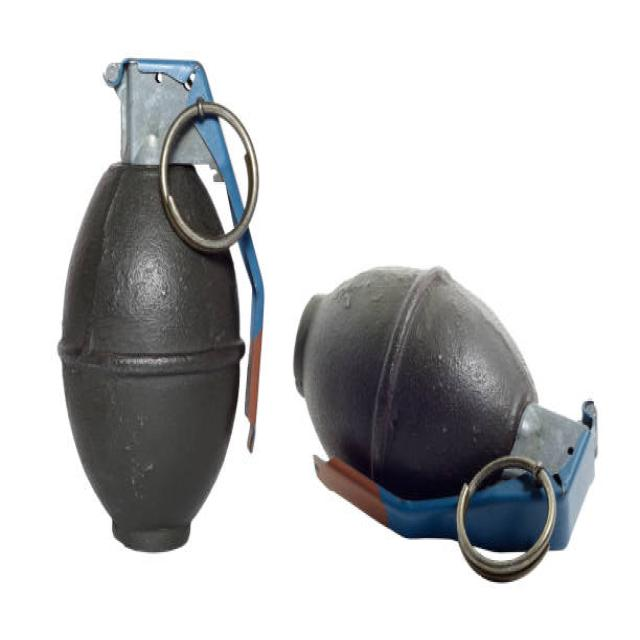grenade: (52, 54, 274, 563), (293, 260, 608, 587)
